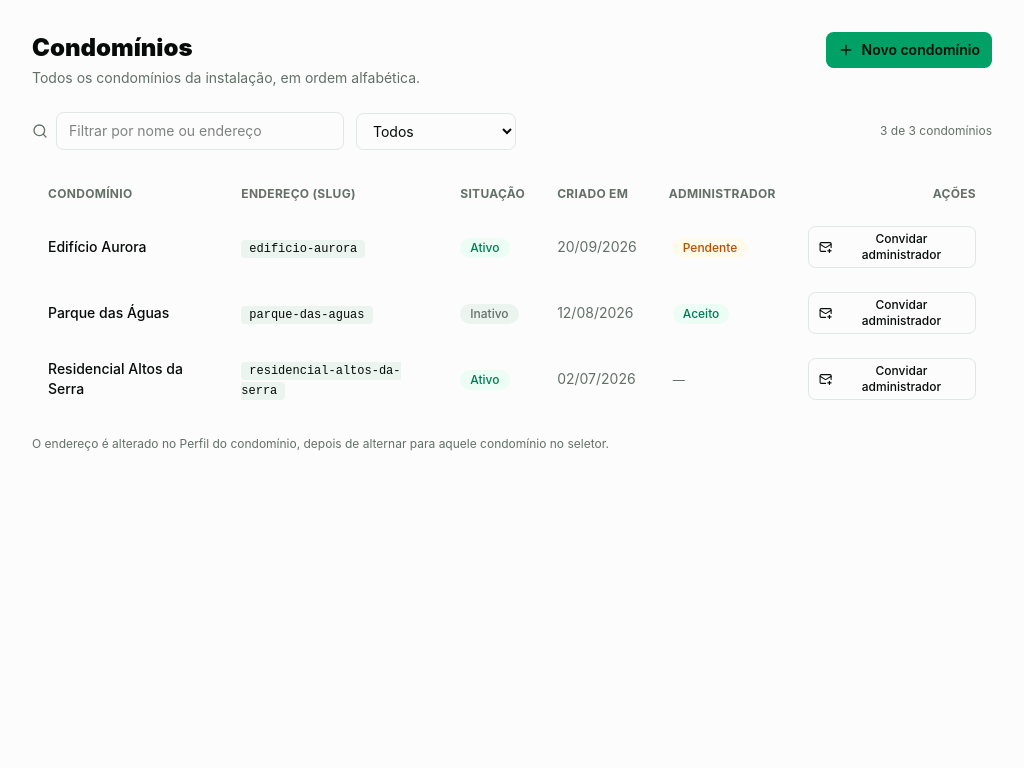
Test: TenantsAdminPage — the per-tenant invitation panel › closes the panel and stops listing
Step 1. Click the button "Pendente" → (710, 247), box 669,234 -> 751,260
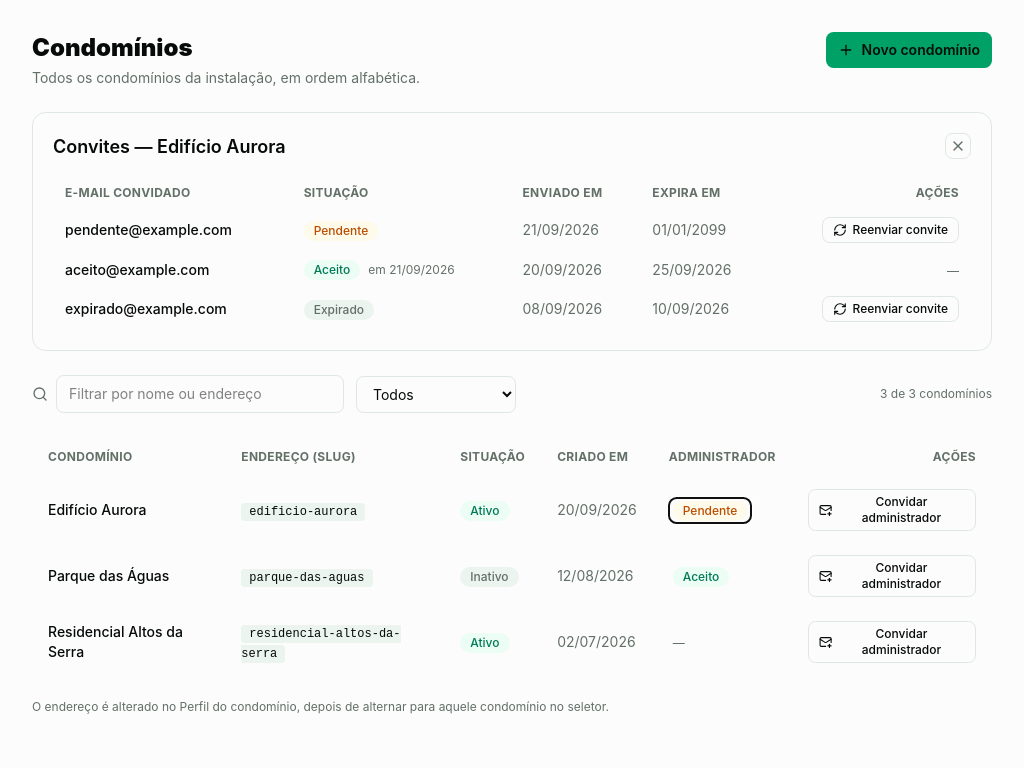
Step 2. Click the button named "Fechar os convites" → (958, 146), box 945,133 -> 971,159
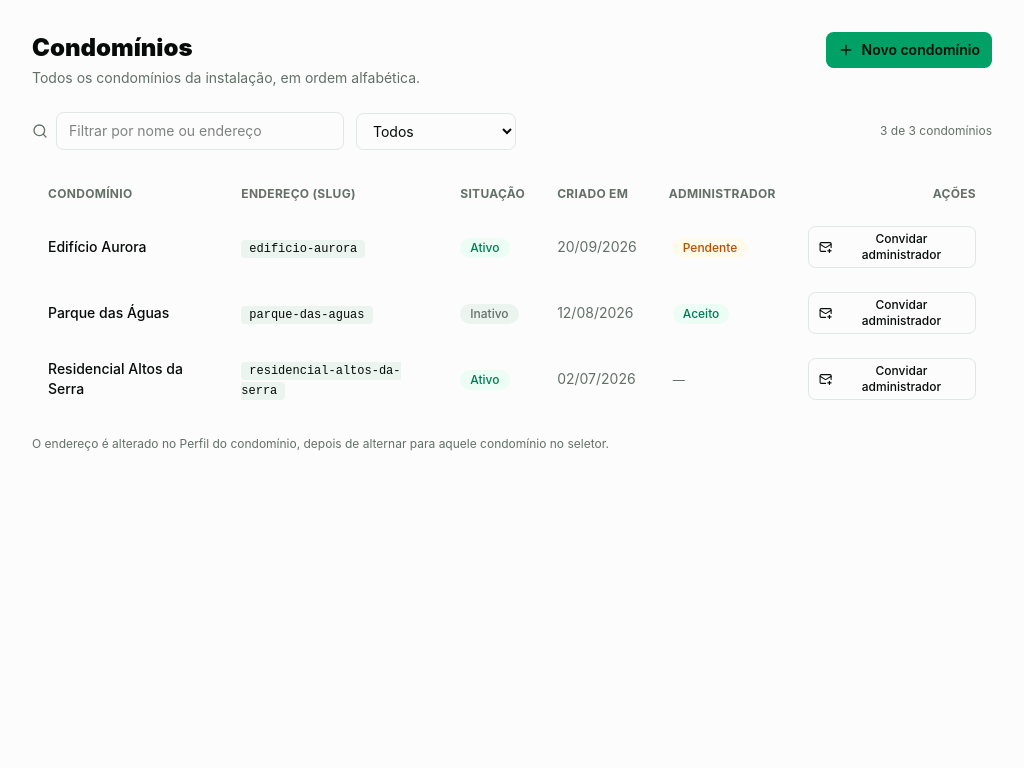
Expected: the element with test id "invitation-panel" is gone
